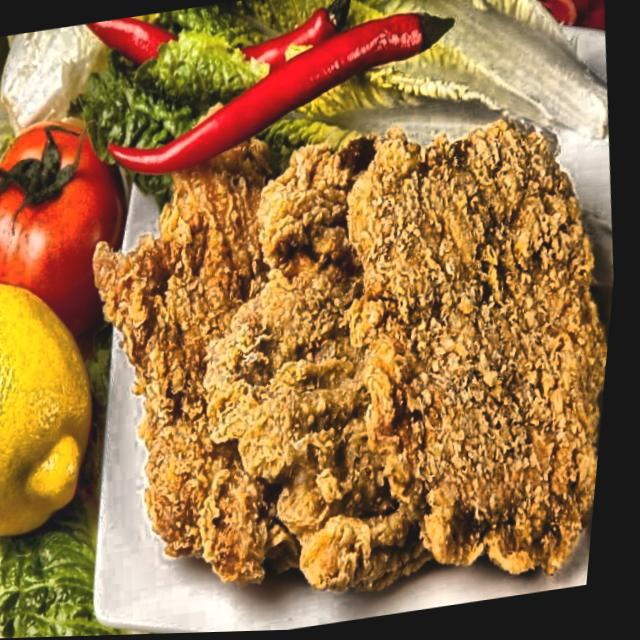Food: (70, 104, 632, 637)
